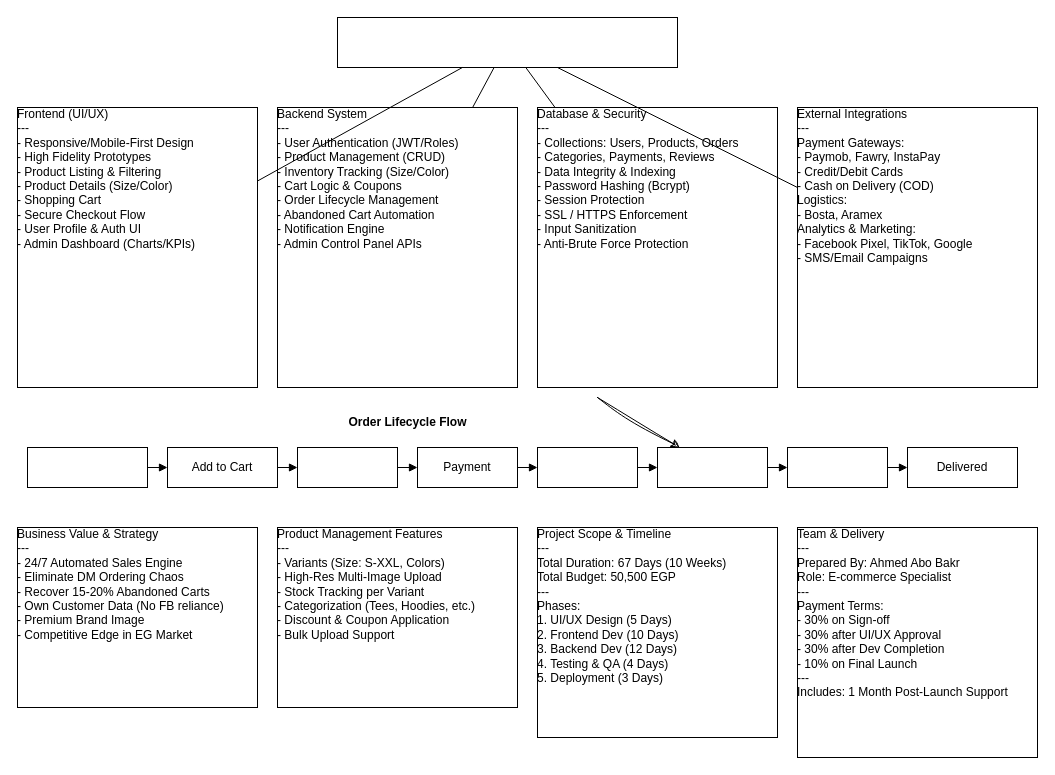
The diagram is 1055 pixels wide and 775 high, and some of its shapes have lost their labels. The shapes that lost their labels are listed below. From the top down, each one's centre as x and y in pixels, then its label:
At pixel 507 42: "LEMMA E-Commerce Platform (Architecture & Project Scope)".
At pixel 87 467: "Browse / Search".
At pixel 347 467: "Checkout".
At pixel 587 467: "Pending".
At pixel 712 467: "Processing".
At pixel 837 467: "Shipped".
